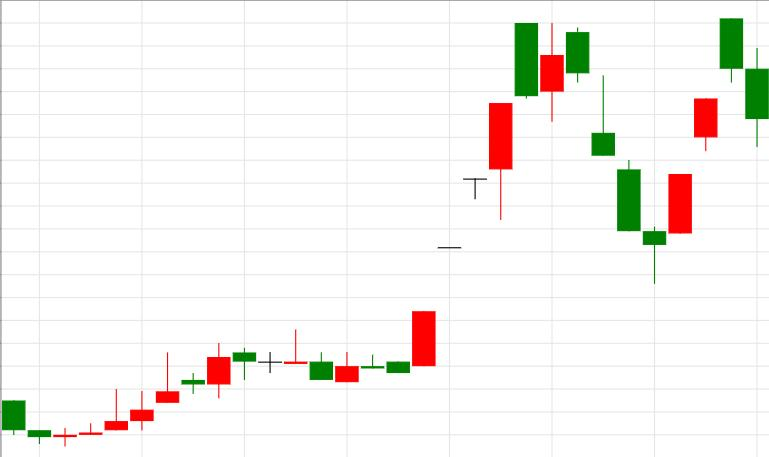morning_star_rise: (514, 23, 693, 283)
